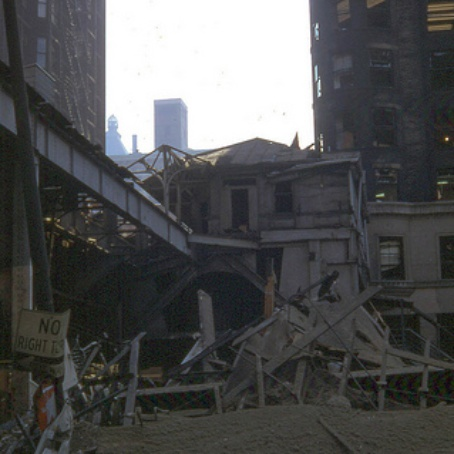building: (43, 141, 451, 406), (318, 1, 454, 181), (1, 1, 113, 161), (152, 98, 190, 153)
sky: (123, 1, 308, 126)
